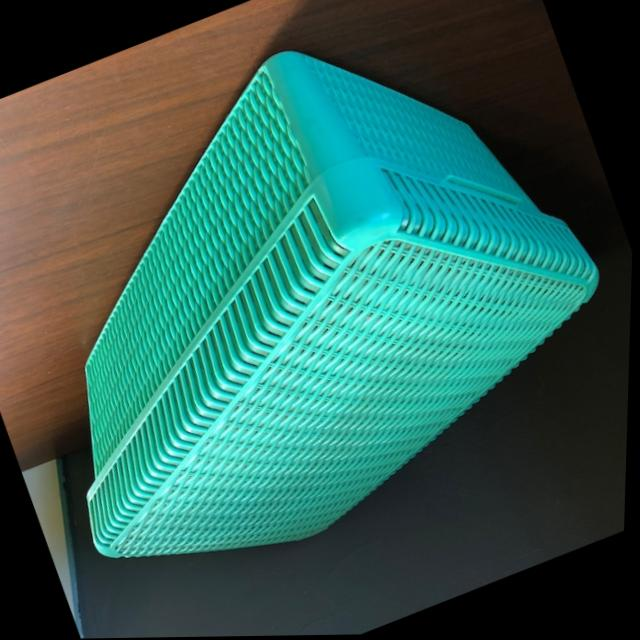plastic: (0, 0, 629, 635)
